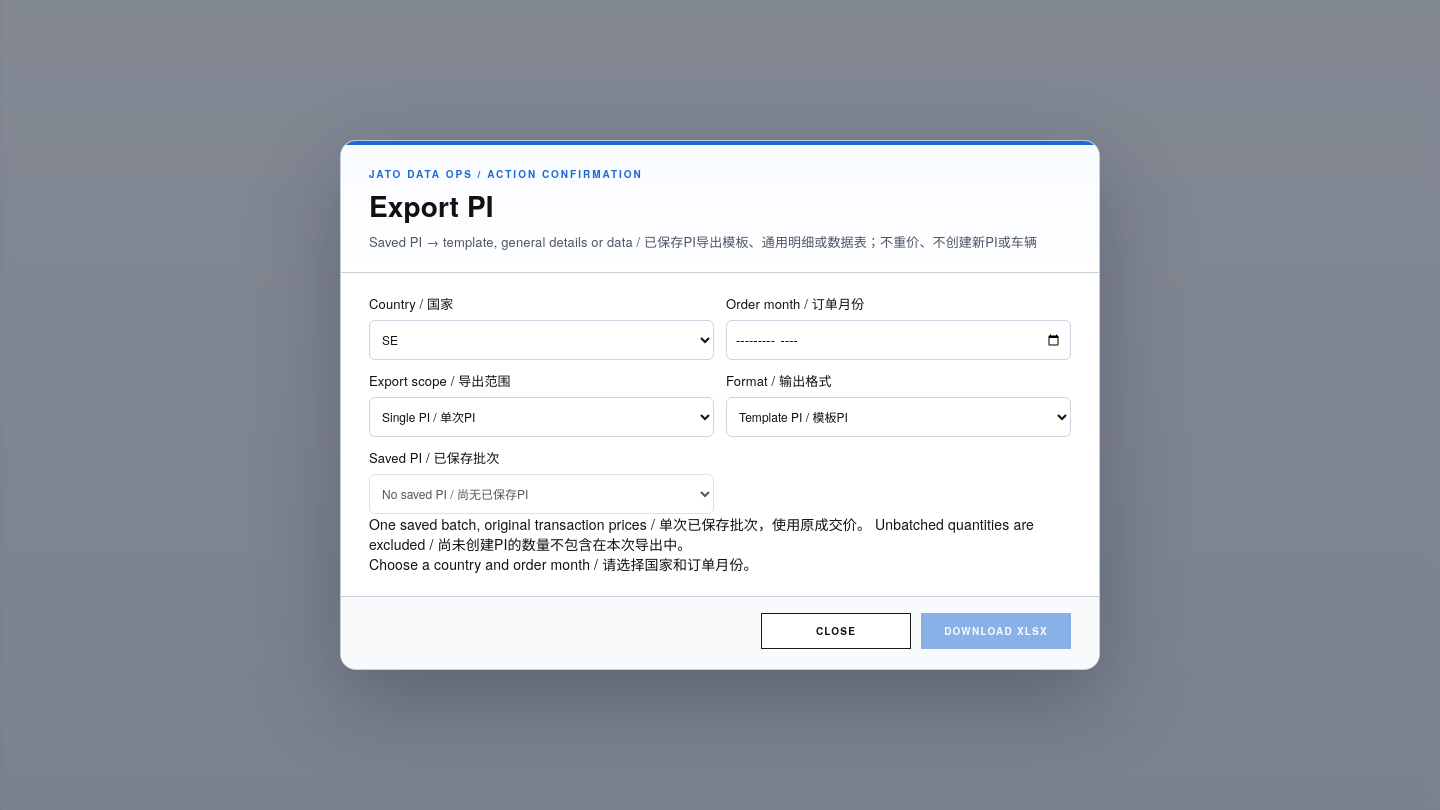
Test: requires a month, and a failed/empty plan is not misreported as missing templates
Step 1. Type "2026-10" into the field named "Plan month" → (898, 340), box 726,320 -> 1071,360
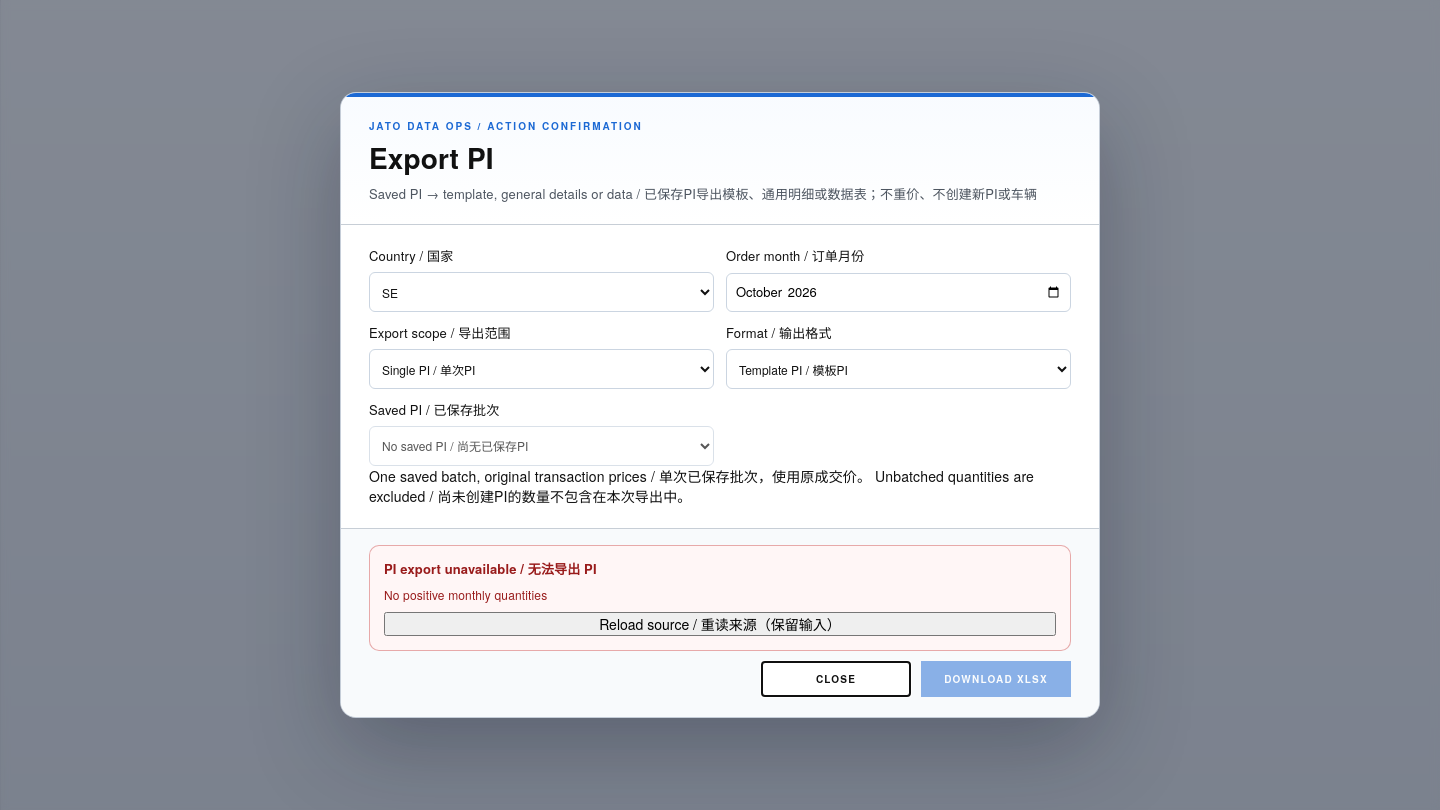
Expected: the button "Download XLSX" is disabled, 921,661 -> 1071,697
Now the text "No positive monthly quantities" is shown, box 384,586 -> 547,603
